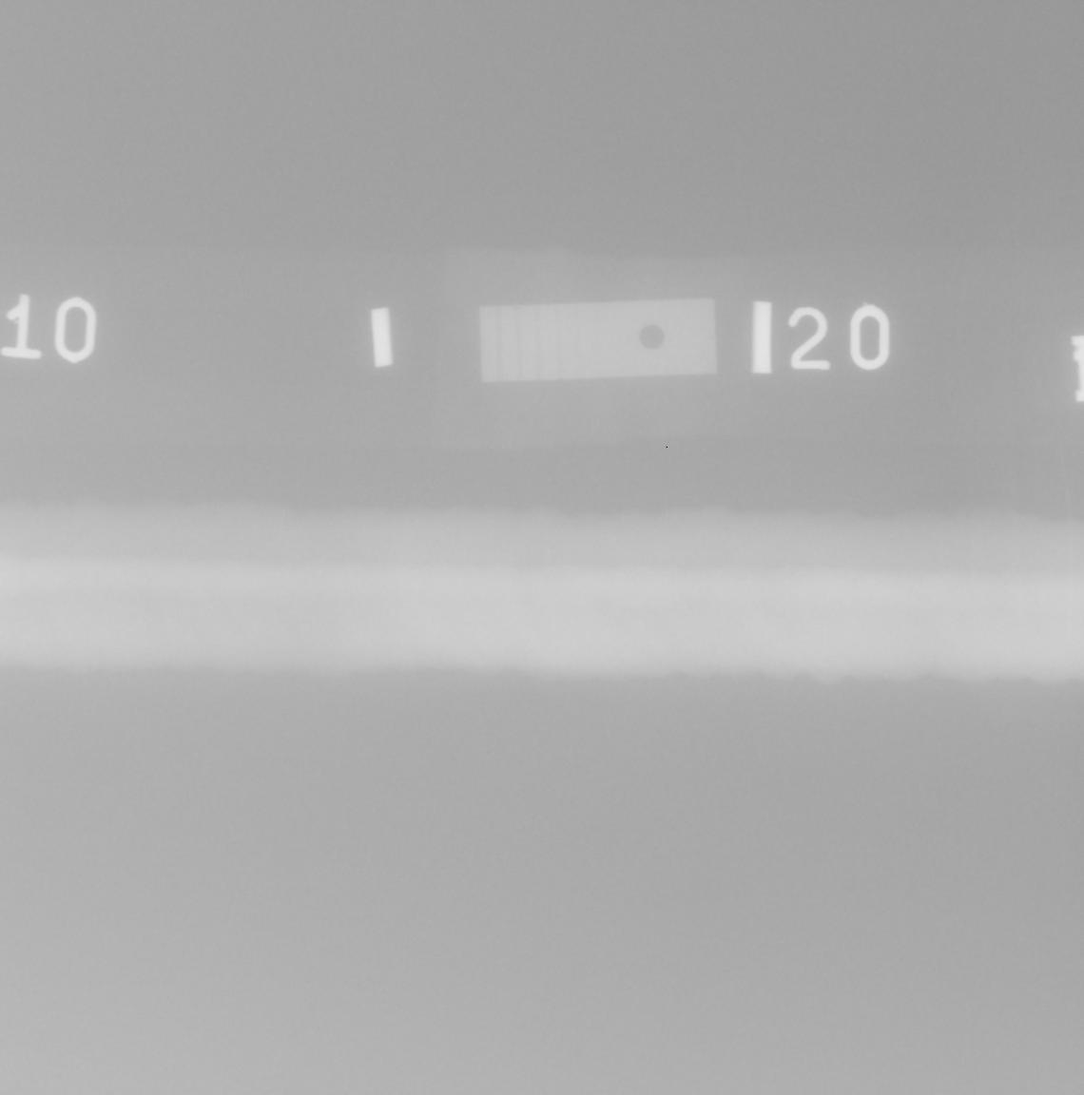Reference Standard 1: (479, 298, 717, 383)
